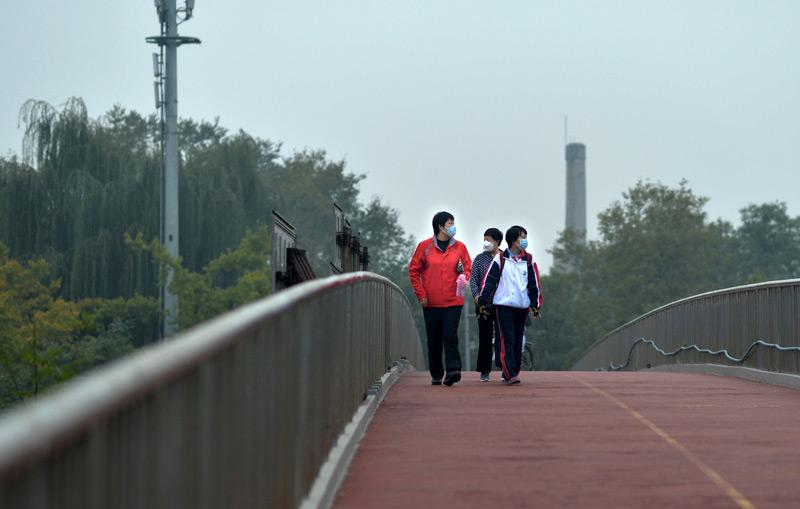person: (409, 210, 473, 388), (476, 224, 543, 384), (469, 226, 519, 385)
